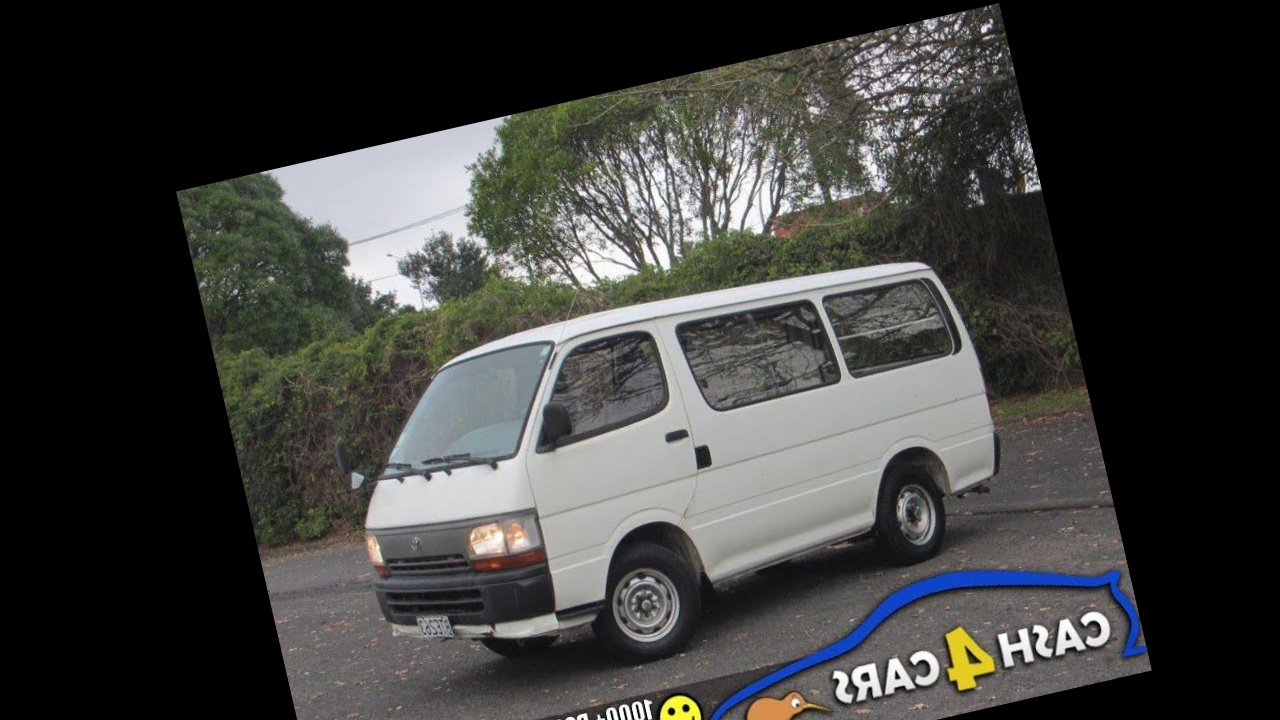van: (323, 232, 1024, 688)
